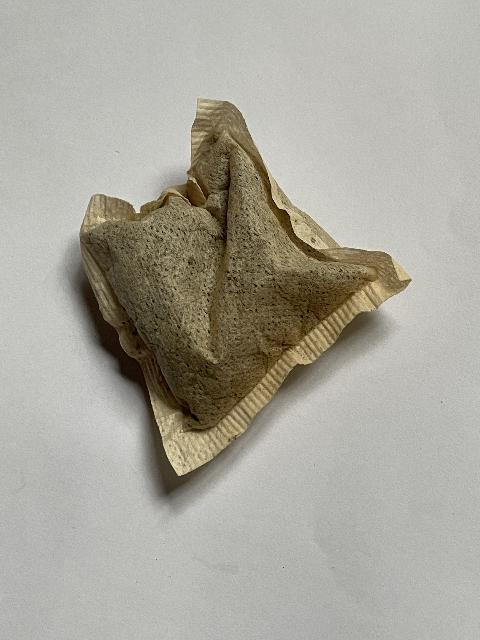teabag: (78, 98, 411, 478)
